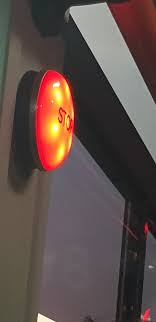bell: (19, 60, 77, 197)
